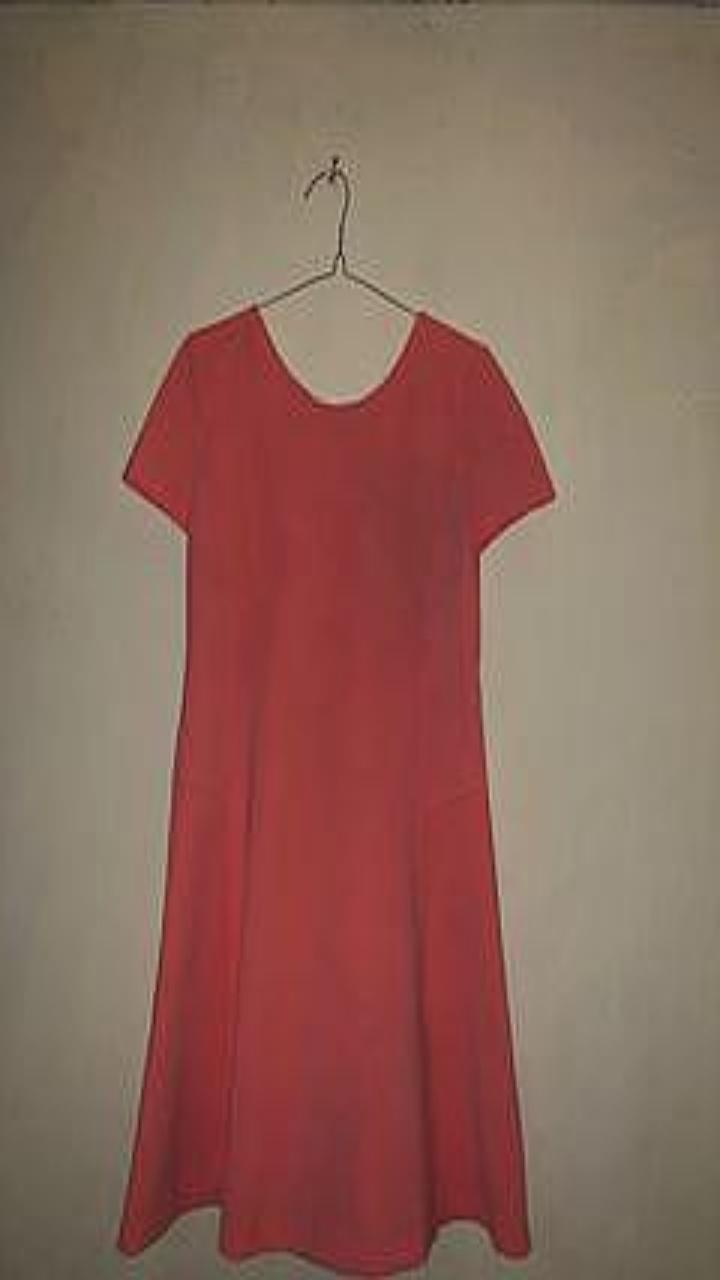Dresses: (117, 304, 554, 1274)
